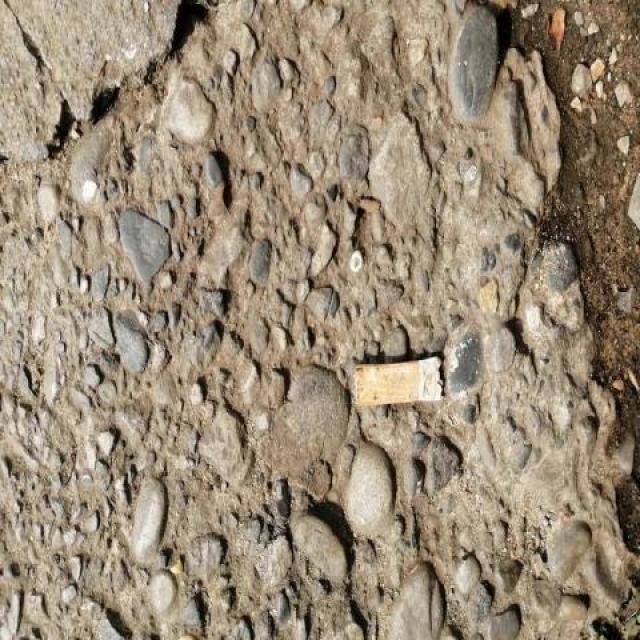non-organic waste: (349, 351, 451, 409)
